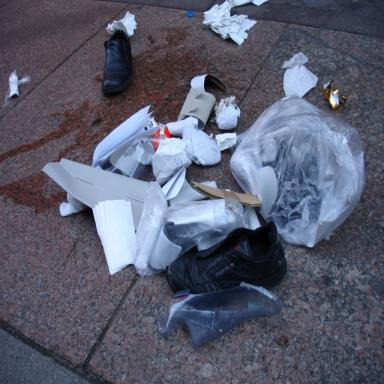plasticbag: (227, 94, 365, 249)
